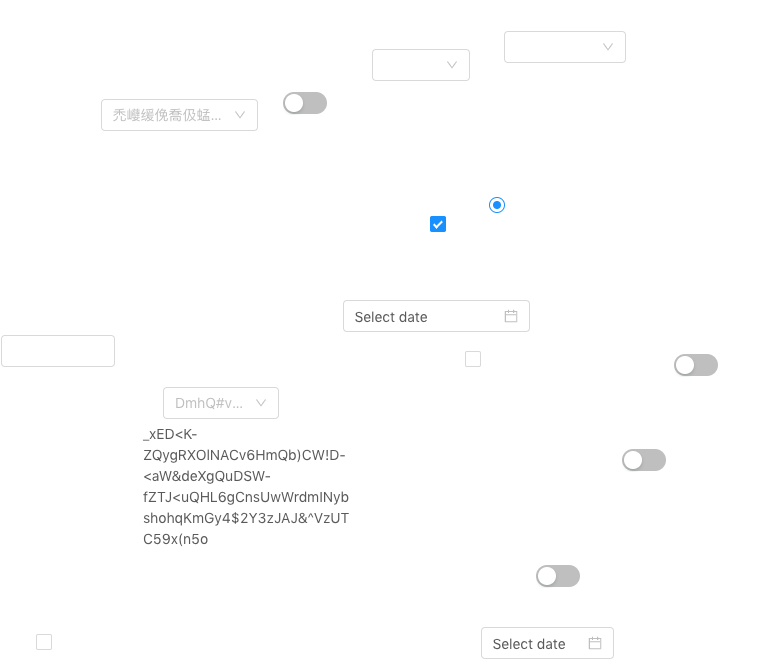Checkbox: (36, 631, 52, 652), (465, 348, 481, 369), (430, 213, 446, 234)
DatePicker: (343, 300, 530, 332), (481, 627, 614, 659)
Input: (1, 335, 115, 367)
Radio: (489, 194, 505, 214)
Select: (101, 99, 258, 131), (504, 31, 626, 63), (163, 387, 279, 419), (372, 49, 470, 81)
Switch: (622, 448, 666, 472), (283, 91, 327, 115), (536, 564, 580, 588), (674, 353, 718, 377)
Text: (143, 423, 351, 585)
